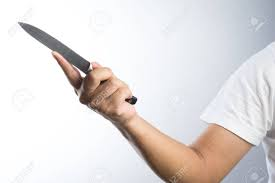weapon-unusual: (14, 17, 154, 120)
